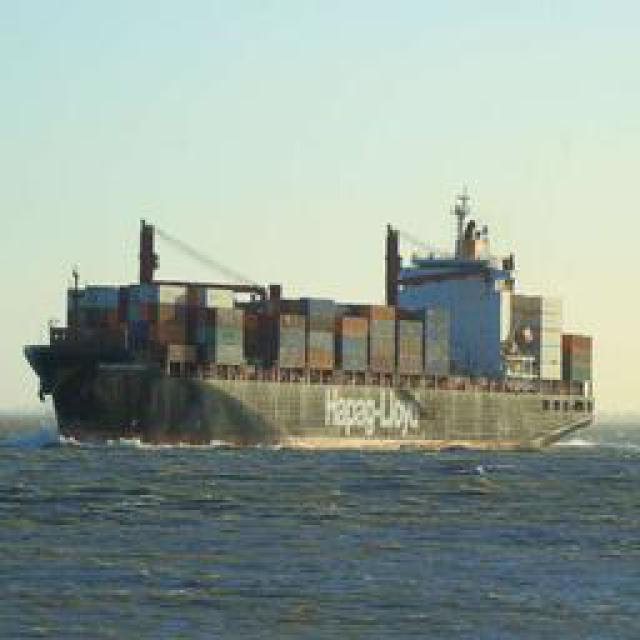Ship: (23, 211, 598, 444)
